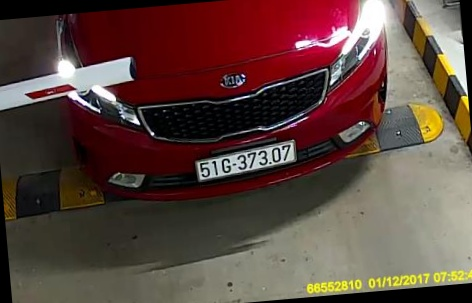plate: (190, 137, 309, 188)
